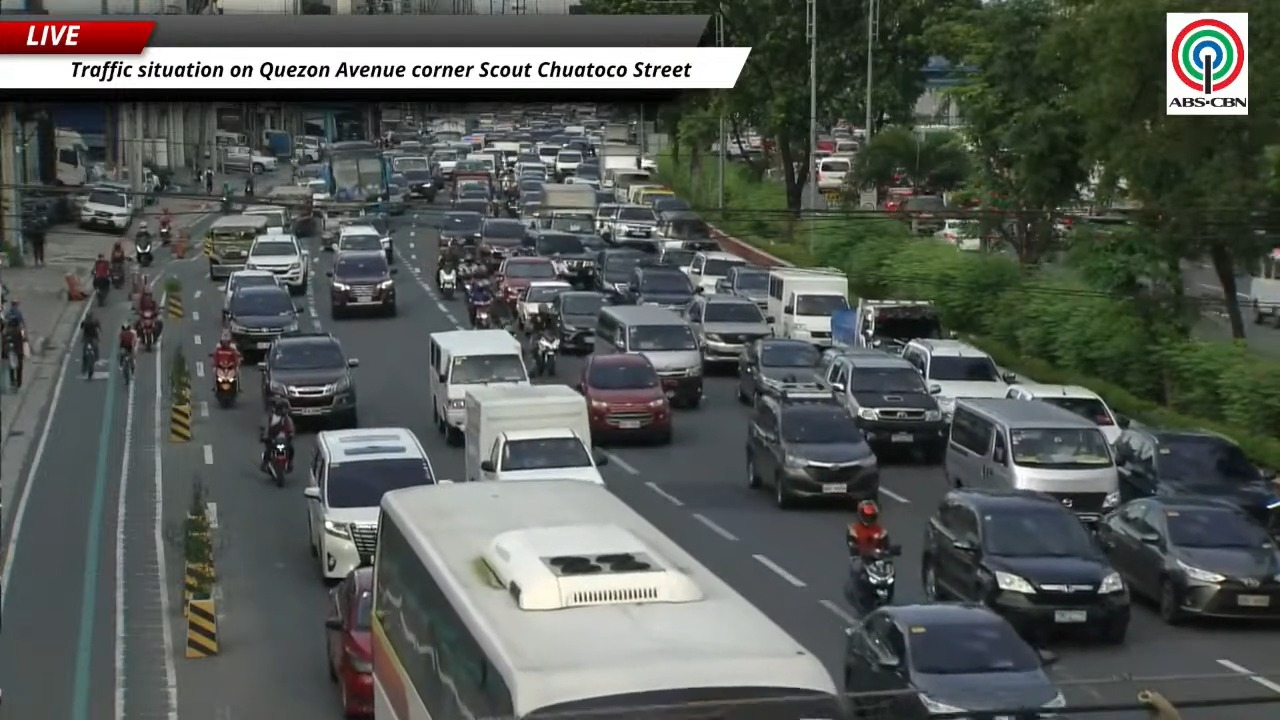bus: (372, 480, 844, 719), (205, 214, 268, 280), (327, 141, 388, 202)
car: (921, 488, 1129, 644), (843, 603, 1065, 719), (1097, 496, 1279, 623), (300, 427, 435, 581), (1113, 426, 1275, 524), (746, 391, 879, 508), (827, 353, 947, 462), (260, 333, 358, 426), (901, 339, 1016, 418), (577, 354, 672, 443), (325, 567, 373, 716), (481, 428, 607, 484), (1006, 383, 1121, 443), (684, 295, 772, 364), (737, 337, 824, 402), (227, 285, 298, 356), (326, 251, 396, 316), (245, 233, 309, 295), (624, 260, 699, 311), (532, 230, 595, 287), (550, 291, 608, 351), (493, 256, 558, 304), (222, 270, 280, 319), (593, 248, 647, 300), (516, 280, 571, 331), (78, 185, 134, 234), (817, 346, 883, 383), (688, 251, 747, 292), (334, 222, 393, 262), (716, 265, 768, 309), (602, 205, 656, 242), (477, 218, 526, 257), (222, 146, 278, 174), (437, 211, 484, 244), (335, 225, 383, 253), (658, 247, 696, 272), (386, 174, 409, 215), (594, 202, 618, 236), (453, 197, 492, 217), (650, 196, 691, 214), (453, 185, 491, 202)
motorcycle: (846, 546, 900, 614), (534, 333, 559, 376), (267, 434, 287, 486), (215, 365, 238, 408), (137, 310, 156, 352), (135, 235, 153, 267), (438, 269, 456, 299), (473, 302, 491, 328), (109, 258, 124, 288), (94, 278, 110, 306), (159, 224, 171, 245), (220, 195, 231, 213)
truck: (464, 385, 603, 483), (766, 267, 849, 346), (831, 299, 945, 353), (538, 184, 596, 233), (1247, 248, 1279, 327), (54, 128, 90, 186), (598, 144, 640, 180), (603, 123, 631, 144)
